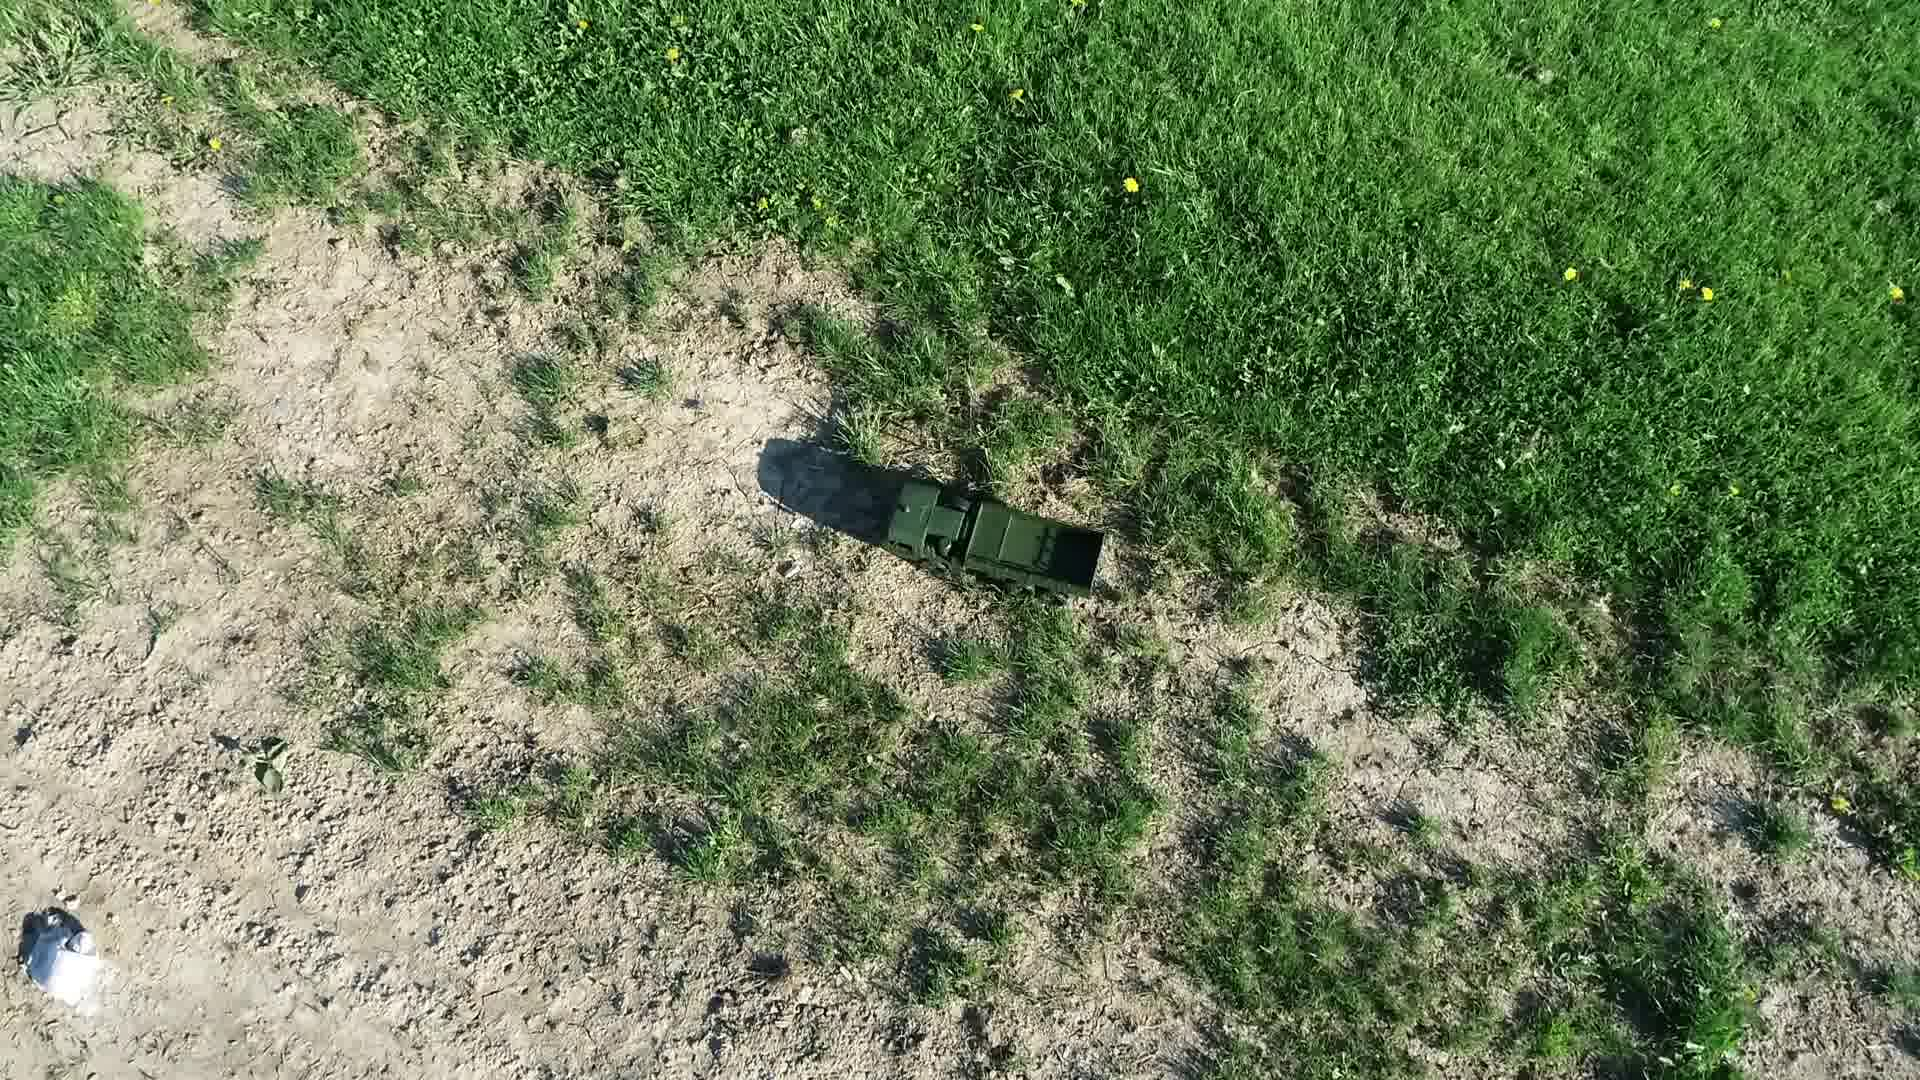transporter9: (877, 467, 1120, 613)
